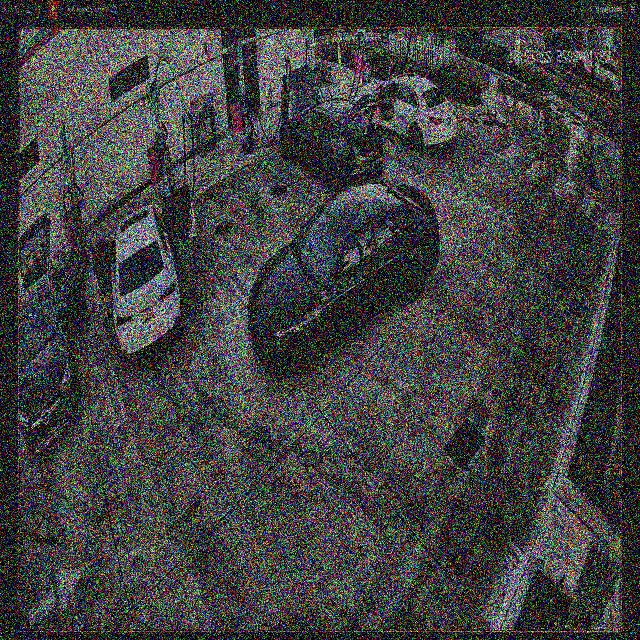Car: (245, 177, 440, 380), (91, 181, 200, 361), (279, 68, 383, 202), (355, 70, 456, 152)
